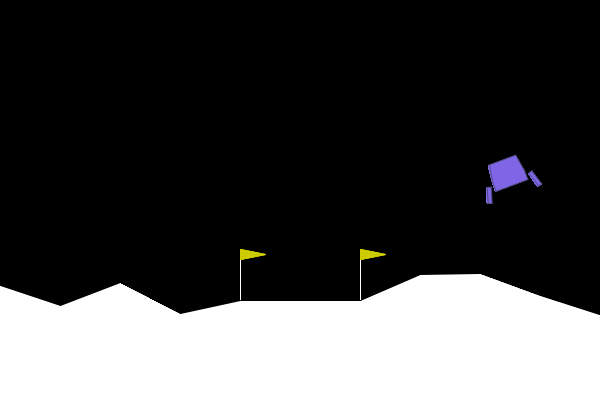lander: (473, 148, 543, 206)
